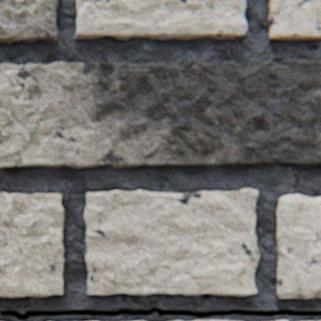brick: (0, 61, 320, 169), (84, 189, 258, 296), (74, 0, 245, 41), (0, 193, 63, 297), (0, 0, 57, 44), (267, 0, 320, 41)
broken_brick: (275, 195, 320, 298)
crack: (0, 306, 320, 320)
